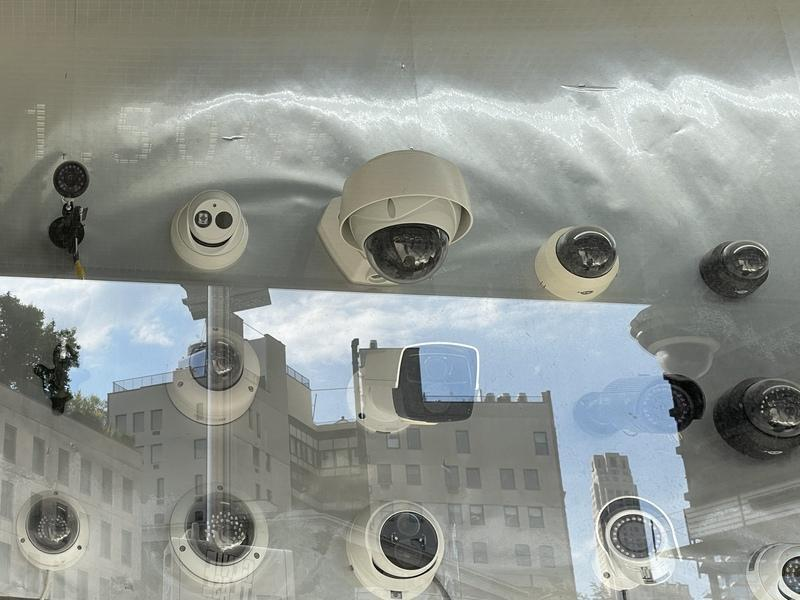bullet: (339, 320, 496, 444), (560, 371, 701, 445), (576, 496, 684, 591)
dome: (319, 148, 479, 282), (161, 483, 276, 588), (161, 321, 266, 427), (12, 474, 93, 572), (715, 377, 792, 454), (701, 227, 771, 304), (535, 230, 620, 291)
turret: (334, 502, 458, 593), (156, 191, 261, 280)
